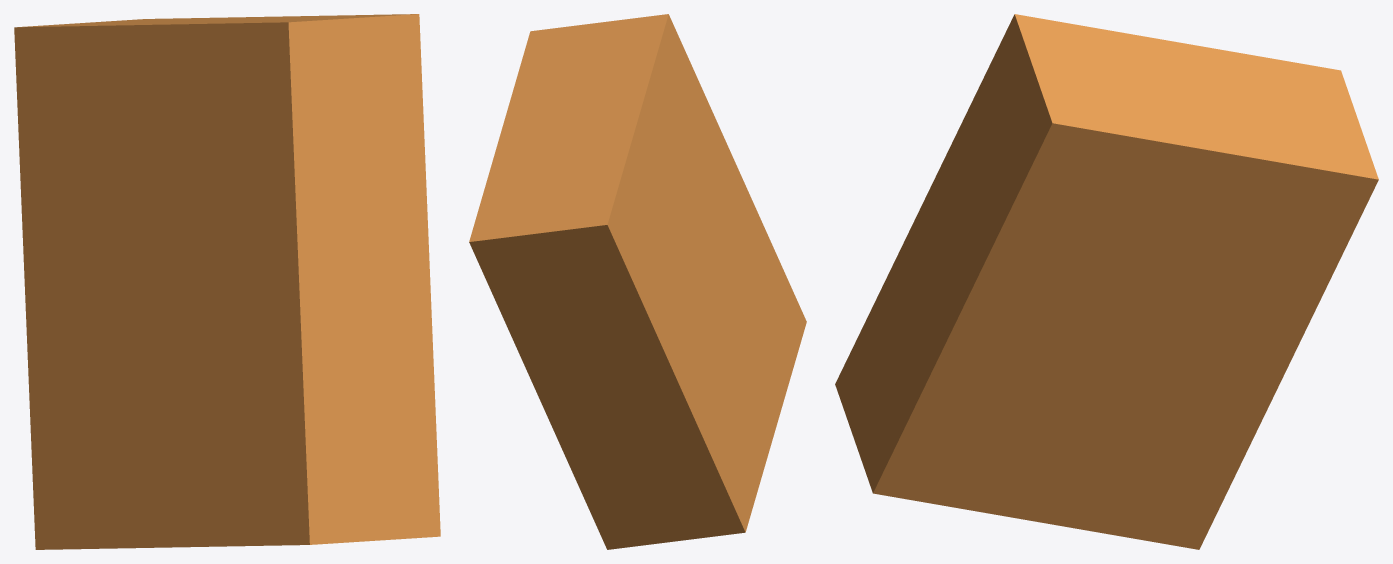
3 renders of one model, left to right at view 1: azimuth 30°, elevation 25°; view 2: azimuth 150°, elevation 25°; view 3: azimuth 270°, elevation 25°, orthographic. The views are drawn at different scales.
Parts seen in each view (by area): view 1: Cube; view 2: Cube; view 3: Cube.
Part boxes in pixels (<box>): Cube: <box>14,14,440,549</box>; Cube: <box>469,14,806,549</box>; Cube: <box>835,14,1378,549</box>.
Size of the model in its own units: 5.93 by 10.22 by 9.22.
